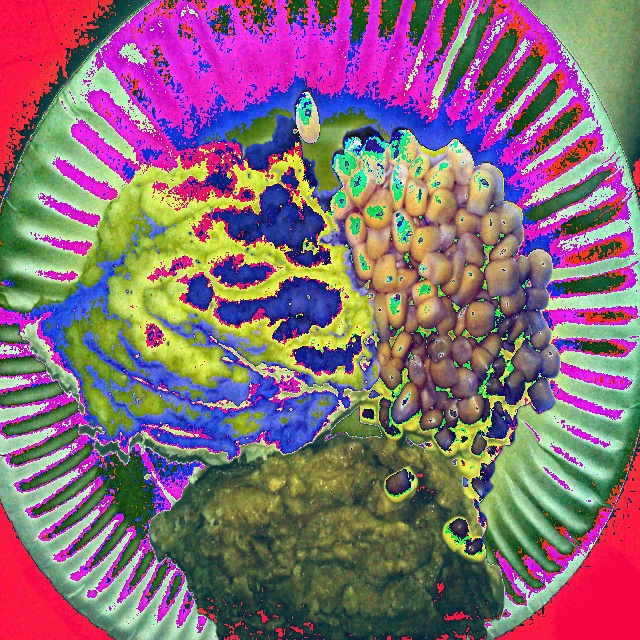background: (19, 115, 559, 639)
